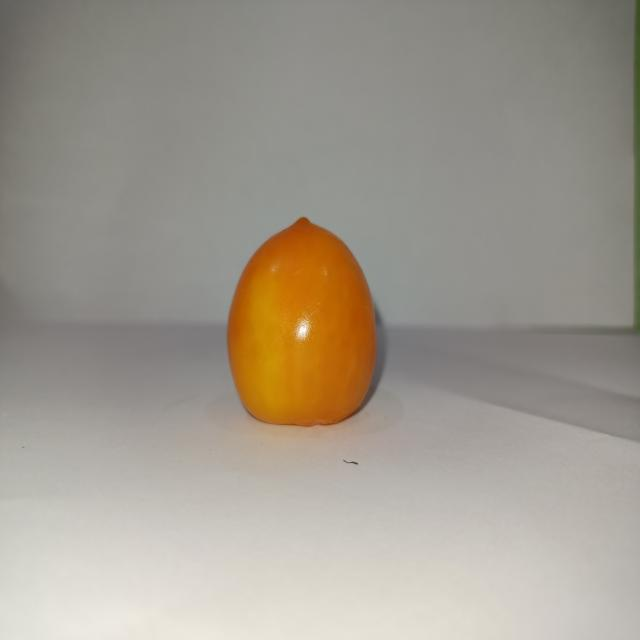Red: (225, 215, 380, 426)
